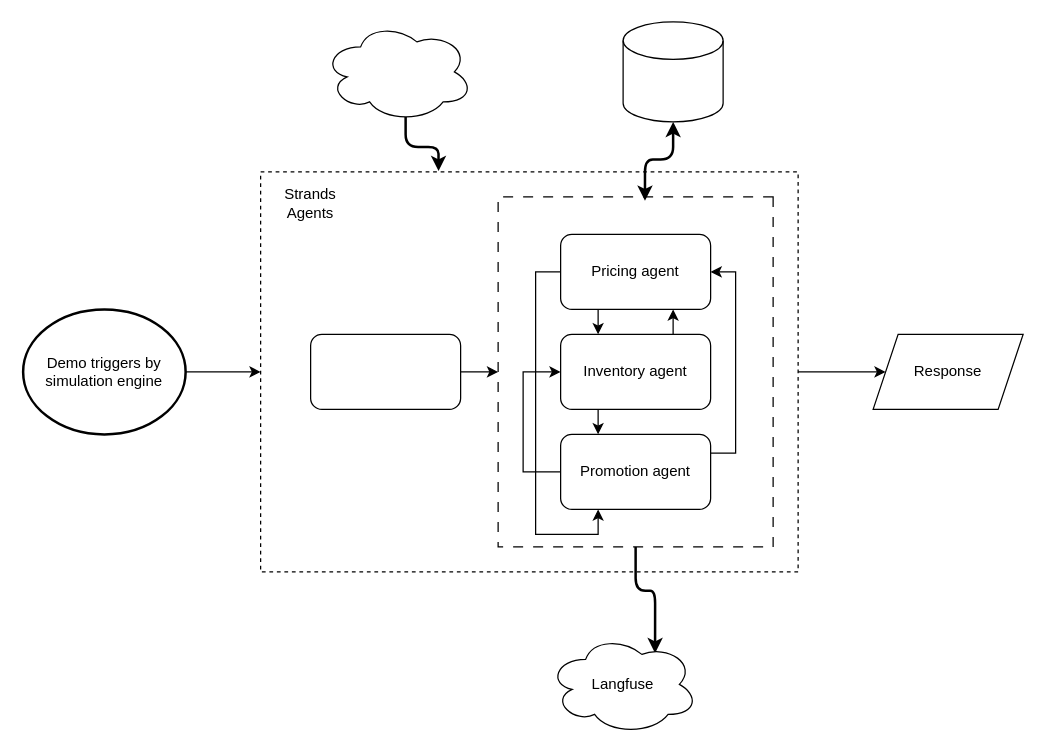
Image size: 1045x756. Some labels were removed from this diagram. The shapes that lost their labels are listed below. From the top down, each one's box as (x1, y1, x2, y2) in pixels, then its label:
(322, 21, 473, 122): AWS Bedrock
(622, 21, 723, 122): ChromaDB
(309, 333, 461, 409): Orchestration agent
